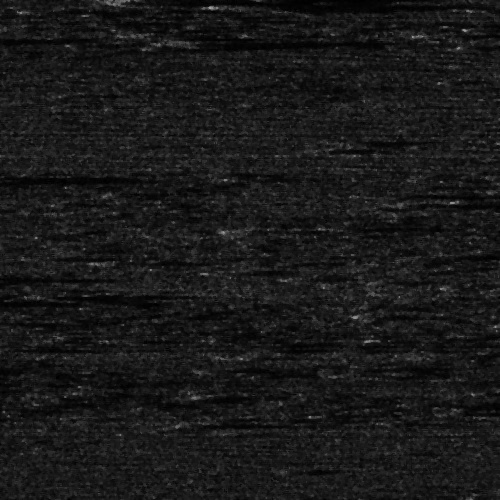object: (156, 33, 209, 50), (65, 0, 170, 6), (205, 2, 278, 7), (21, 290, 62, 295)
shadow: (183, 33, 367, 50), (117, 0, 405, 6), (0, 174, 141, 183), (242, 2, 472, 7), (41, 290, 217, 295), (0, 32, 76, 41), (0, 295, 35, 306), (475, 6, 500, 9)
